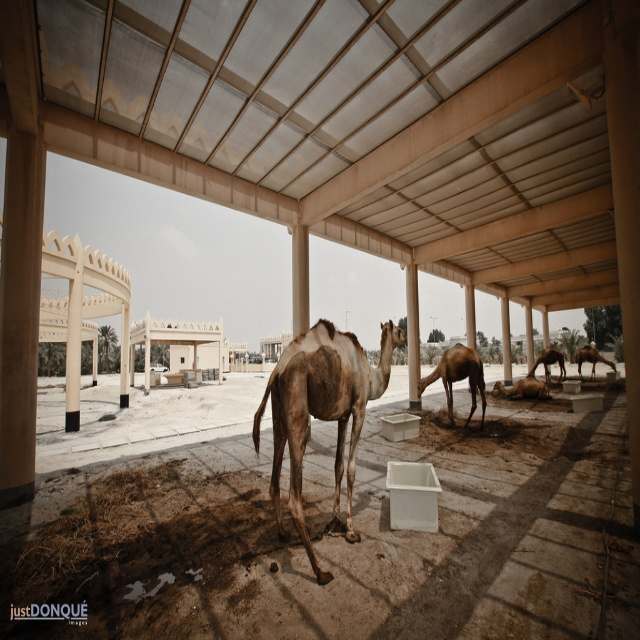Camel: (253, 319, 407, 586), (416, 343, 488, 432), (577, 347, 617, 382), (529, 349, 569, 382), (495, 379, 552, 402)
